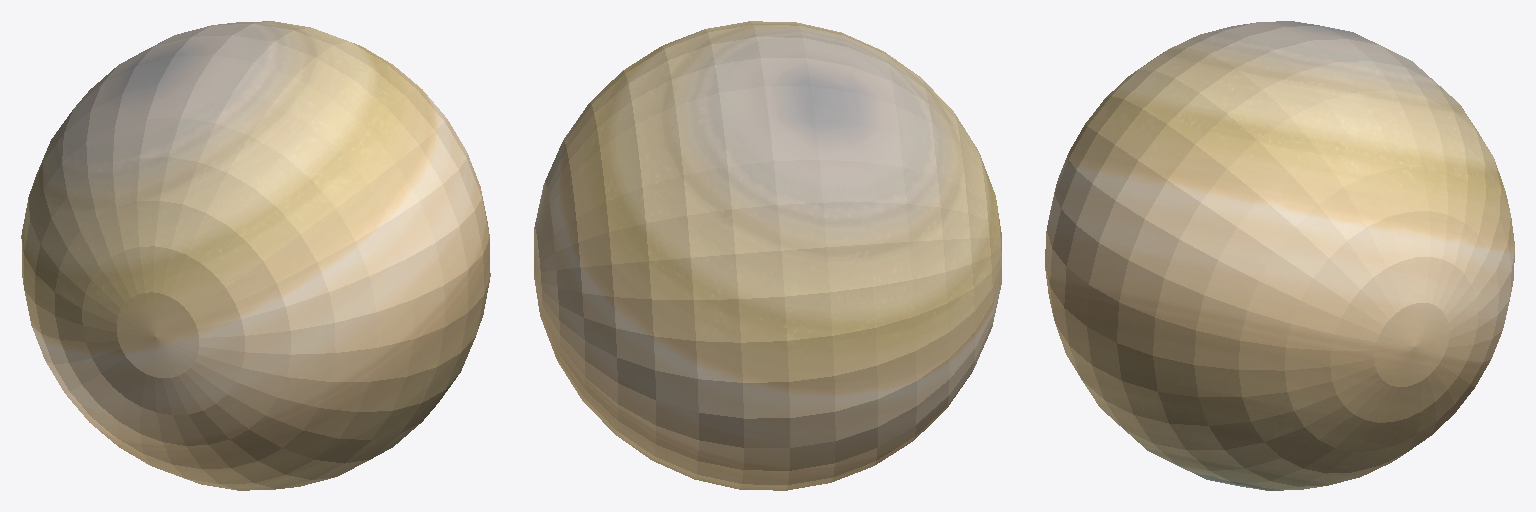
3 views of the same model, side by side, from view 1: azimuth 30°, elevation 25°; view 2: azimuth 150°, elevation 25°; view 3: azimuth 270°, elevation 25° (orthographic).
Parts seen in each view (by area): view 1: Sphere; view 2: Sphere; view 3: Sphere.
Part boxes in pixels (x1,y1,x2,y2): Sphere: (21, 21, 490, 490); Sphere: (534, 21, 1001, 490); Sphere: (1045, 21, 1514, 490).
Size of the model in its own units: 5.95 by 5.94 by 5.95.
Materials: 1 (1 with a texture image).